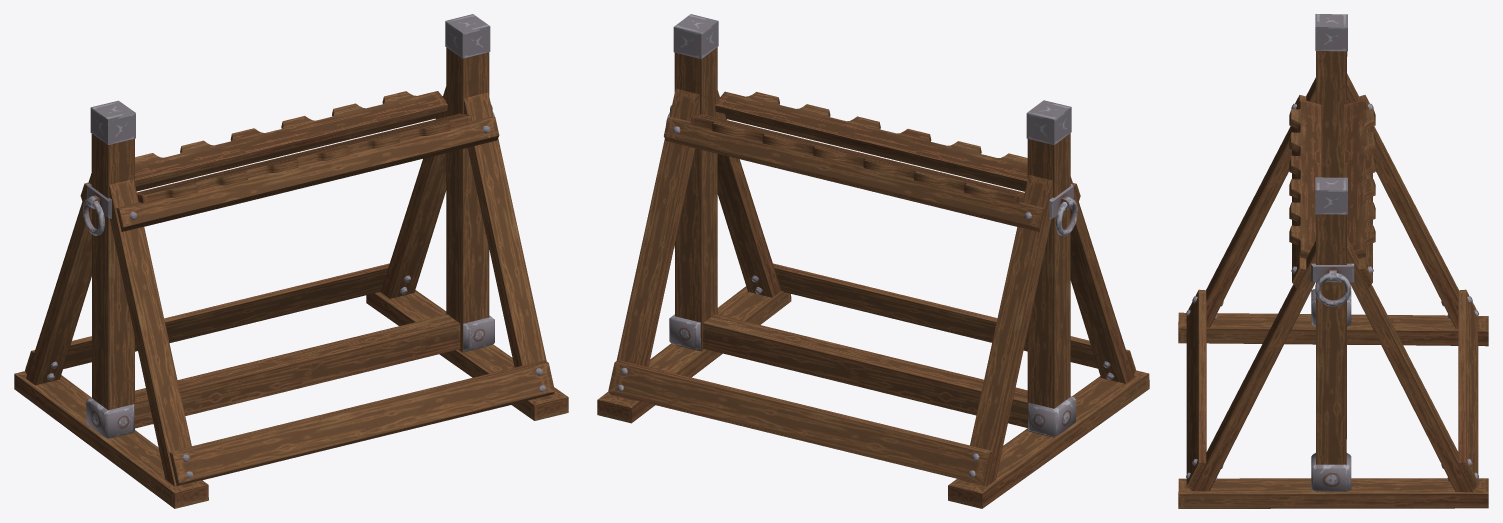
File: WeaponStand.gltf
3 views of the same model, side by side, from view 1: azimuth 30°, elevation 25°; view 2: azimuth 150°, elevation 25°; view 3: azimuth 270°, elevation 25° (orthographic). The views are drawn at different scales.
Visible parts, largest first — view 1: WeaponStand; view 2: WeaponStand; view 3: WeaponStand.
Boxes of the visible parts, x1=… form: WeaponStand: x1=14, y1=14, x2=568, y2=508; WeaponStand: x1=597, y1=14, x2=1149, y2=508; WeaponStand: x1=1178, y1=14, x2=1488, y2=508.
Bounding box in the file's own units: 1.39 × 1.11 × 0.9831.
2 materials, 2 textured.
